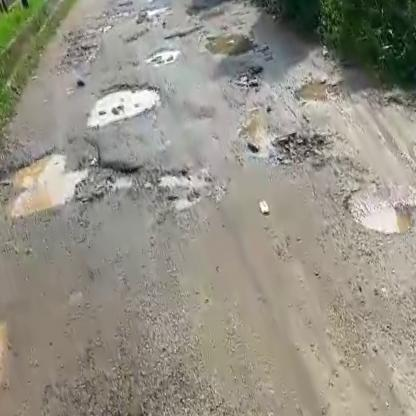pothole: (0, 125, 142, 226), (342, 174, 416, 251), (79, 68, 169, 131), (154, 158, 224, 216), (267, 120, 335, 173), (201, 23, 261, 68), (288, 65, 347, 110), (0, 318, 27, 416), (142, 40, 183, 66)
